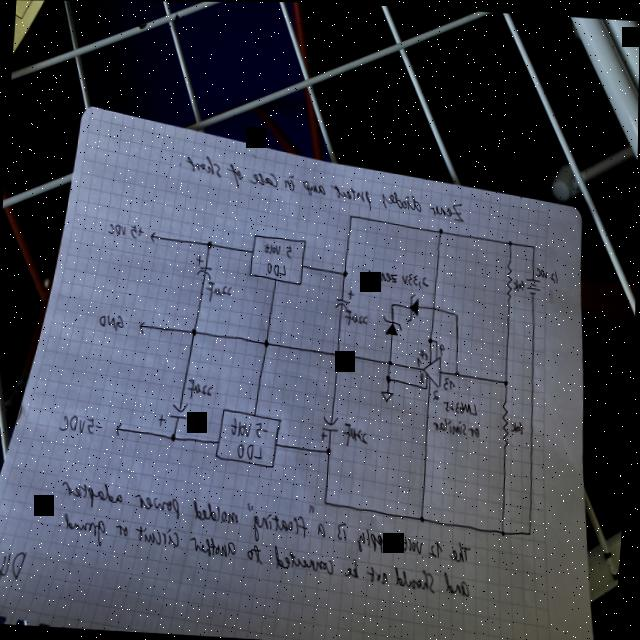capacitor: (160, 400, 191, 430), (333, 287, 357, 313), (195, 253, 215, 279), (322, 415, 341, 442)
crossover: (337, 351, 342, 358), (432, 304, 437, 311)
diode: (407, 292, 422, 323), (383, 314, 404, 335)
ground: (381, 388, 397, 403)
junction: (170, 434, 179, 444), (420, 513, 428, 524), (323, 497, 331, 506), (327, 445, 334, 455), (207, 240, 214, 249), (504, 377, 510, 386), (193, 327, 199, 336), (348, 212, 355, 219), (343, 270, 349, 278), (508, 238, 514, 246), (502, 528, 508, 536), (528, 529, 534, 537), (387, 374, 393, 382), (439, 227, 445, 235), (265, 339, 271, 347), (388, 359, 394, 367), (532, 243, 538, 250), (455, 311, 460, 318), (429, 337, 434, 343), (457, 369, 461, 376), (391, 302, 396, 306), (426, 386, 429, 390), (437, 340, 440, 344)
resistor: (500, 401, 513, 447), (506, 260, 516, 298)
source: (526, 278, 543, 295)
terminal: (115, 422, 125, 436), (140, 320, 148, 334), (149, 230, 158, 242)
text: (56, 513, 478, 603), (60, 477, 478, 565), (176, 153, 469, 222), (0, 548, 29, 590), (433, 417, 483, 437), (203, 278, 240, 305), (61, 413, 104, 435), (231, 417, 271, 439), (185, 376, 217, 402), (342, 422, 371, 447), (107, 221, 146, 239), (97, 312, 126, 335), (444, 398, 481, 416), (402, 271, 431, 289), (368, 268, 399, 284), (264, 243, 294, 258), (238, 443, 264, 460), (536, 266, 561, 281), (267, 262, 288, 277), (348, 311, 371, 324), (511, 419, 527, 434), (513, 277, 527, 292), (444, 376, 458, 390), (419, 346, 430, 362), (433, 389, 442, 400), (420, 371, 427, 384), (440, 343, 447, 355), (417, 356, 424, 366)
